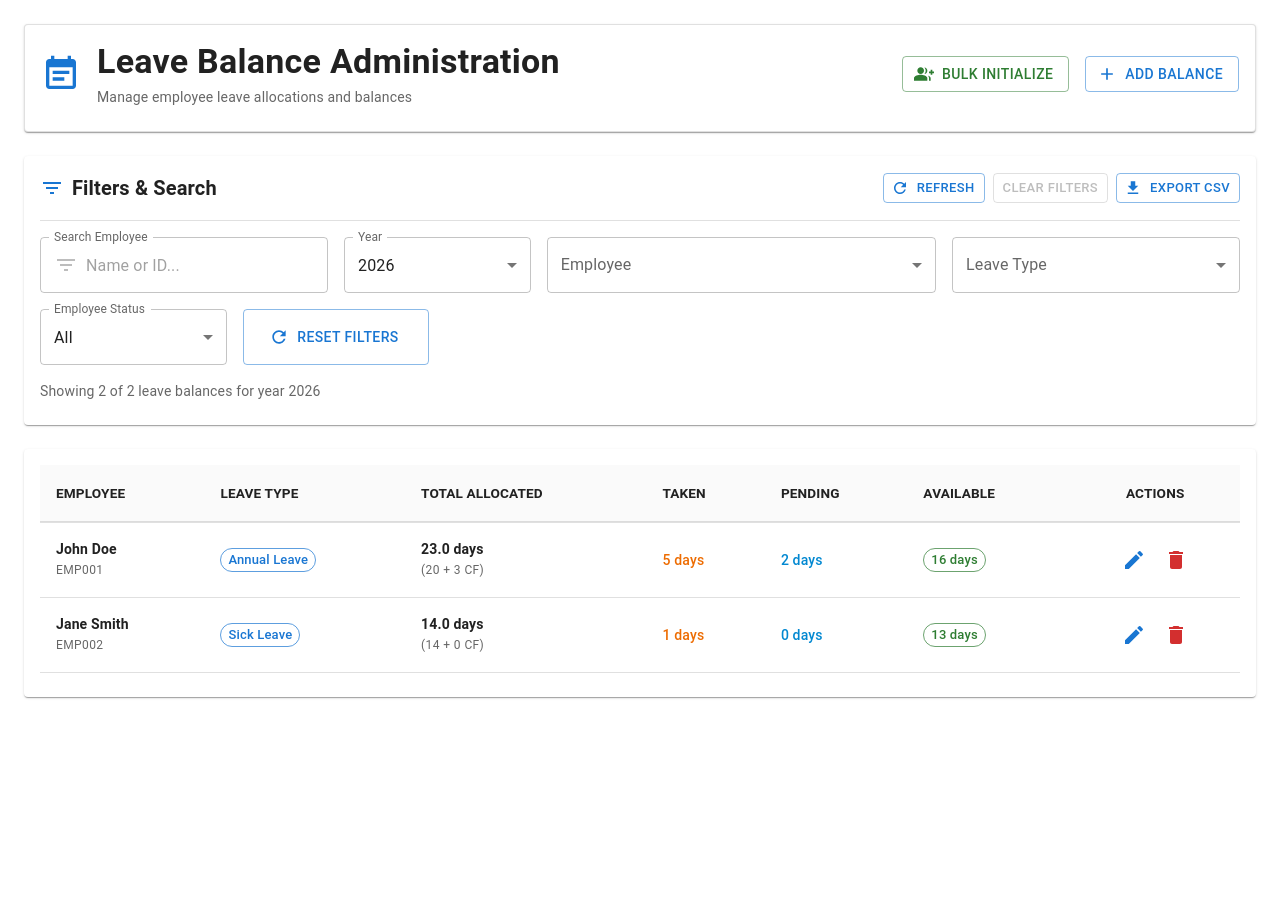
Test: LeaveBalanceModern › Create Balance Dialog › shows success message after creation
The width and height of the screenshot is (1280, 900).
Check: the text "John Doe" is shown, box [56,539,117,559]
Click the button "Add Balance": (1162, 74) [1085,56,1239,92]
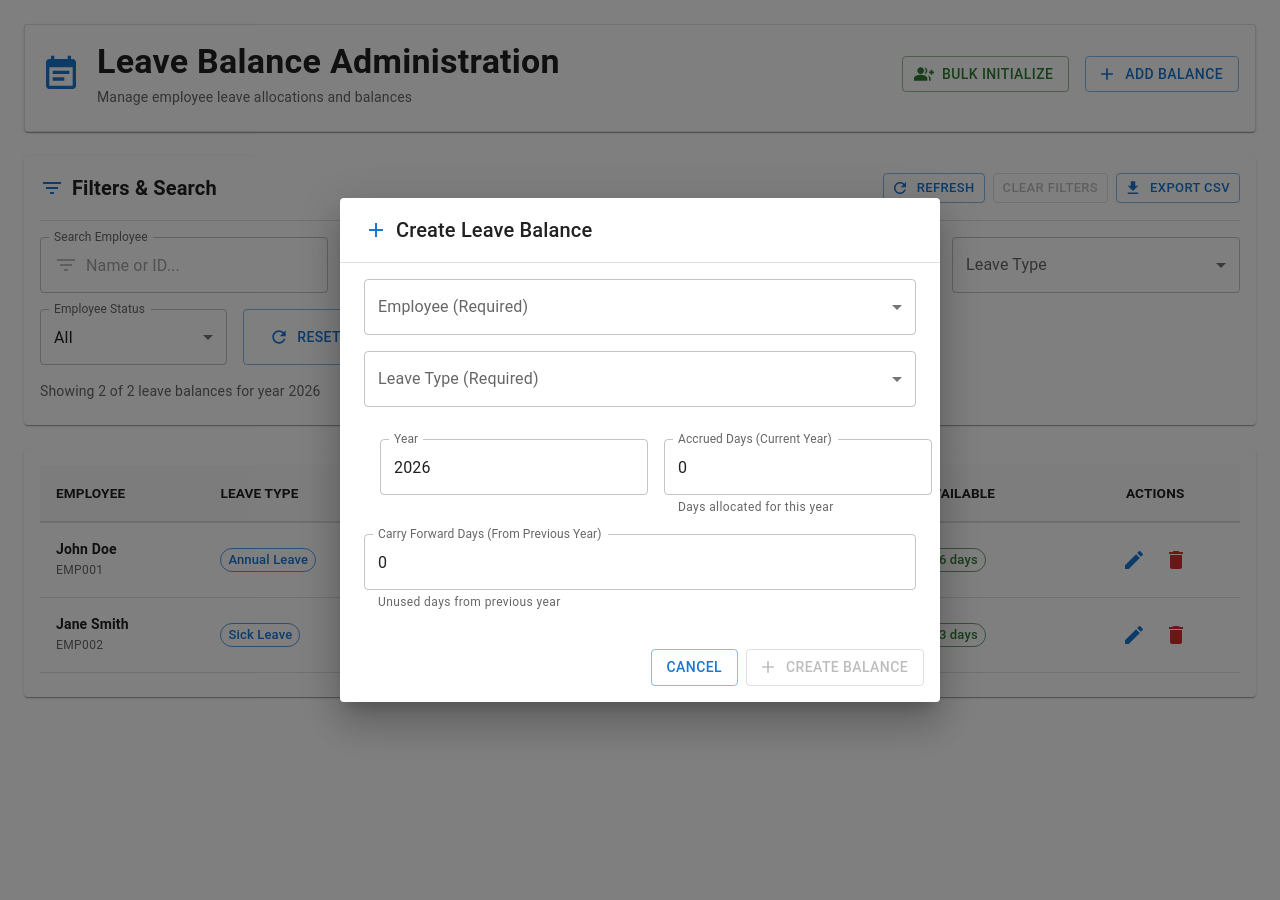
Check: the text "Create Leave Balance" is shown, box [364,218,592,242]
# Select employee via MUI Select dropdown
Click the dropdown next to "Employee (Required)": (640, 307) [364,279,916,335]
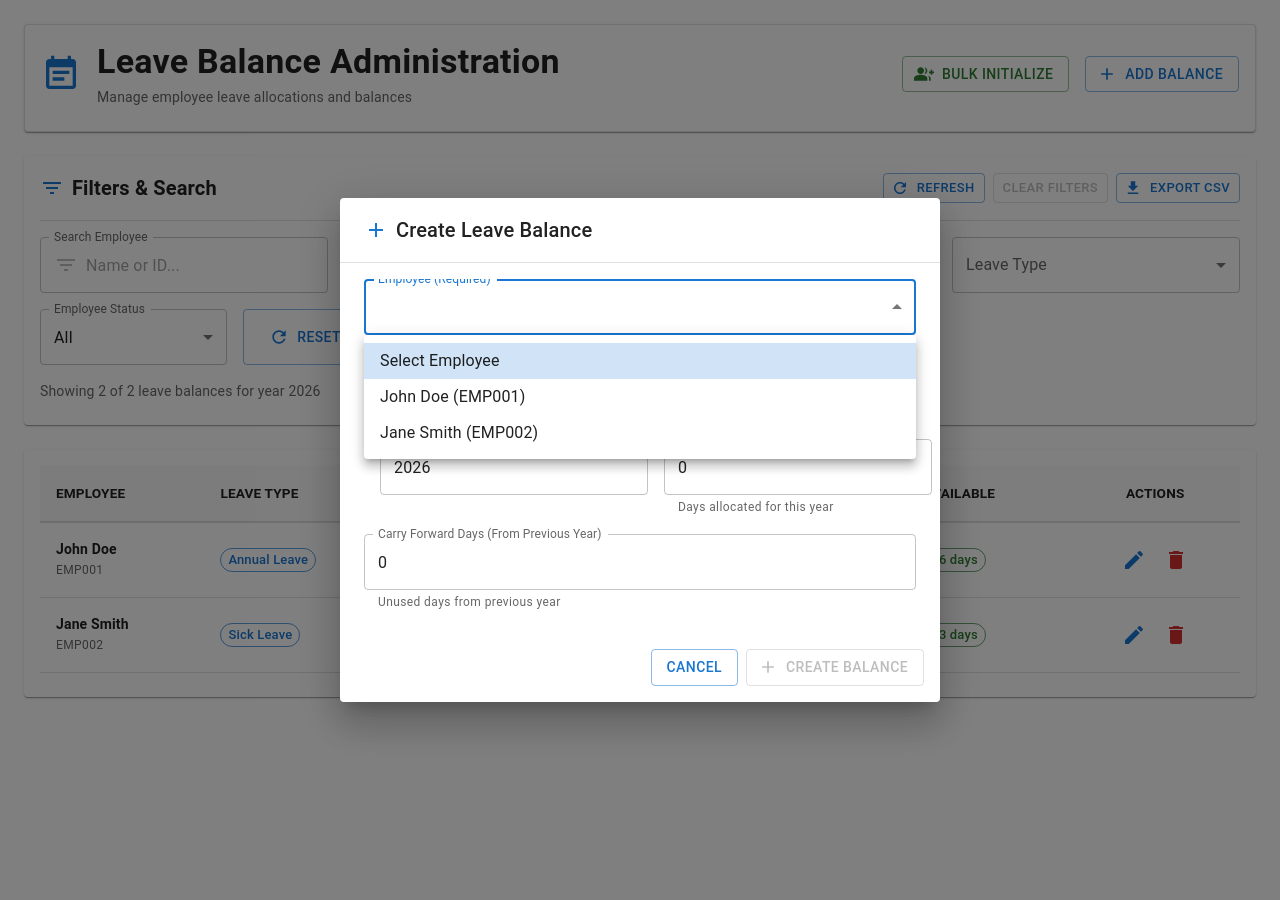
Click the option "John Doe (EMP001)": (453, 396) [380,387,525,406]
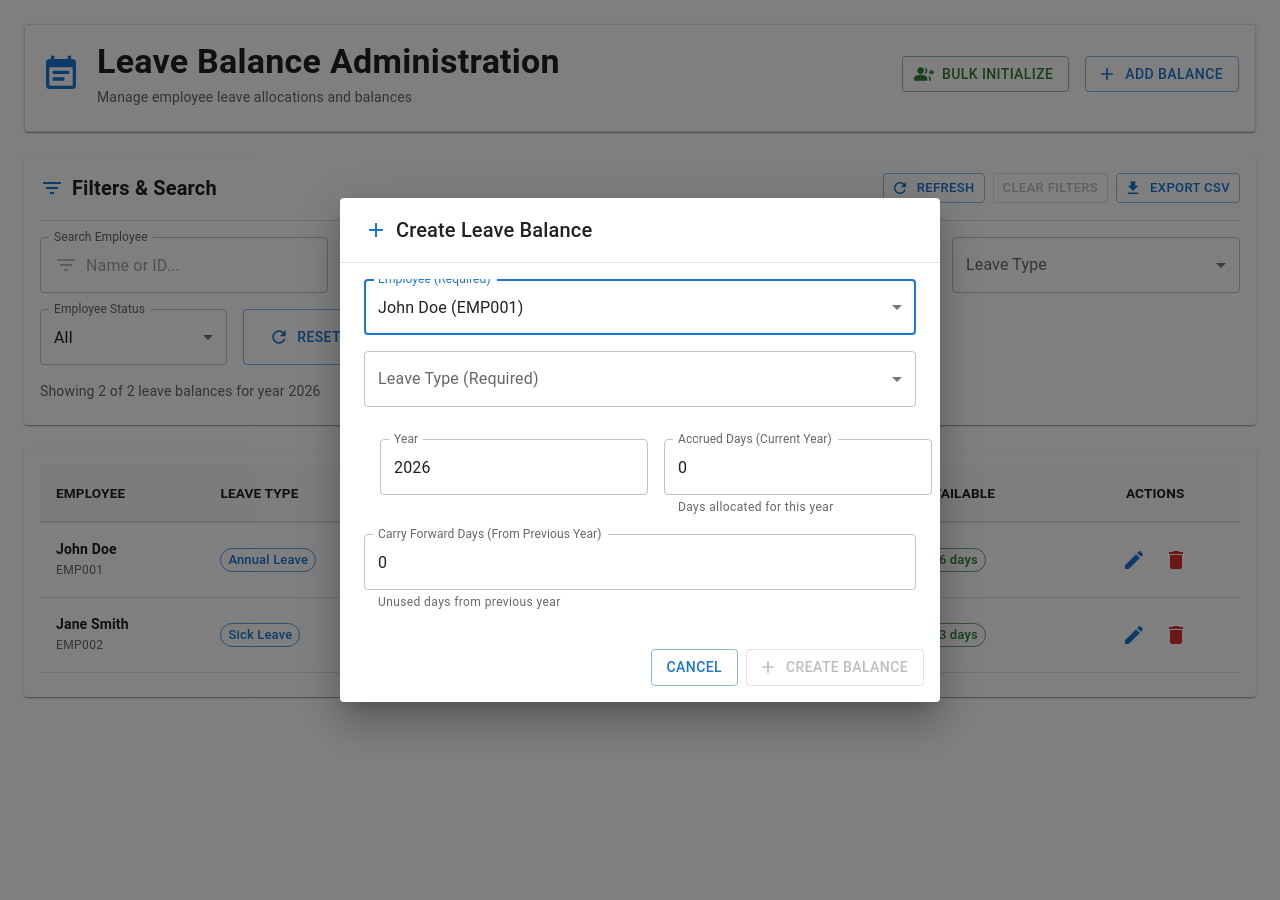
# Select leave type via MUI Select dropdown
Click the 2nd dropdown: (640, 379) [364,351,916,407]
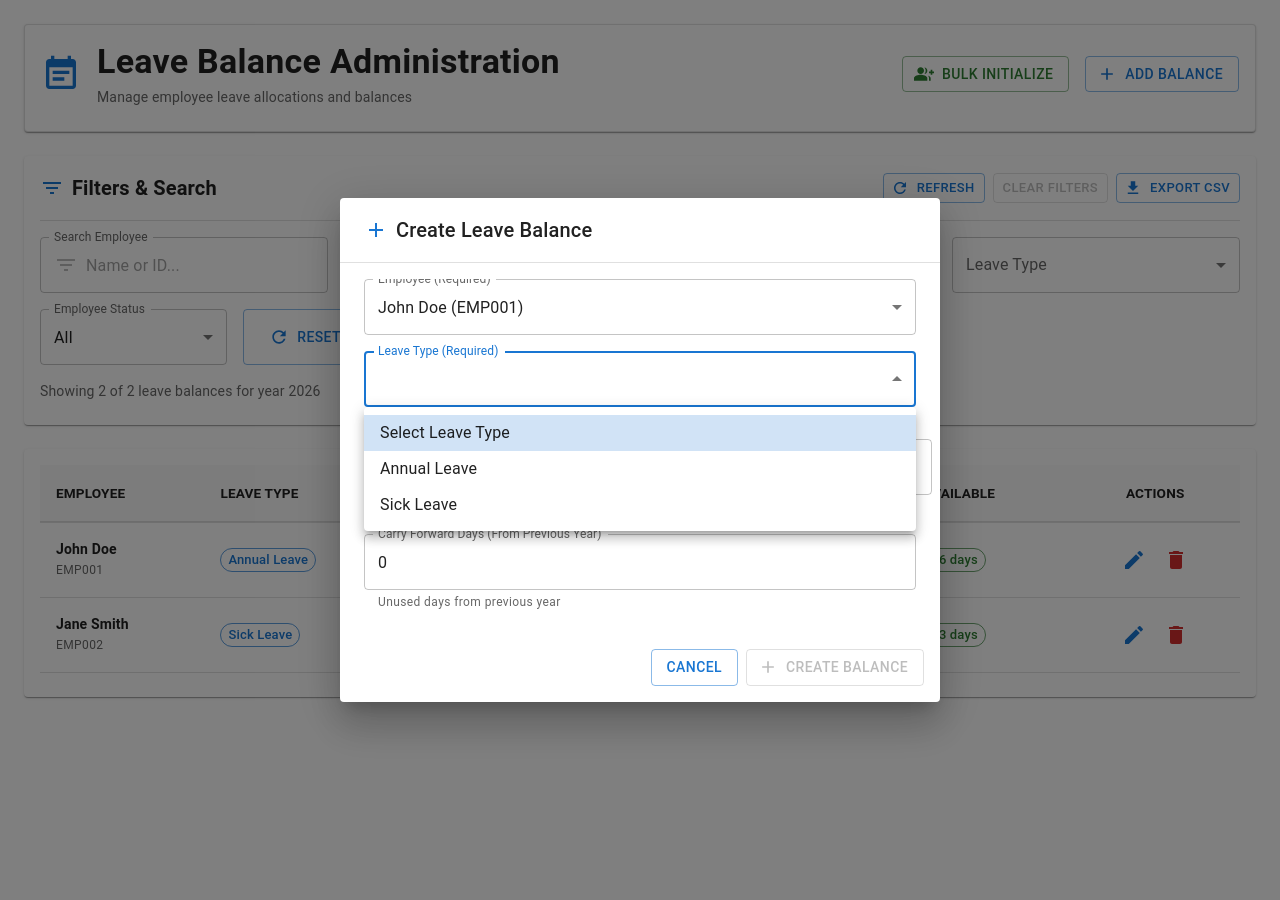
Click the option "Annual Leave": (429, 468) [380,459,477,478]
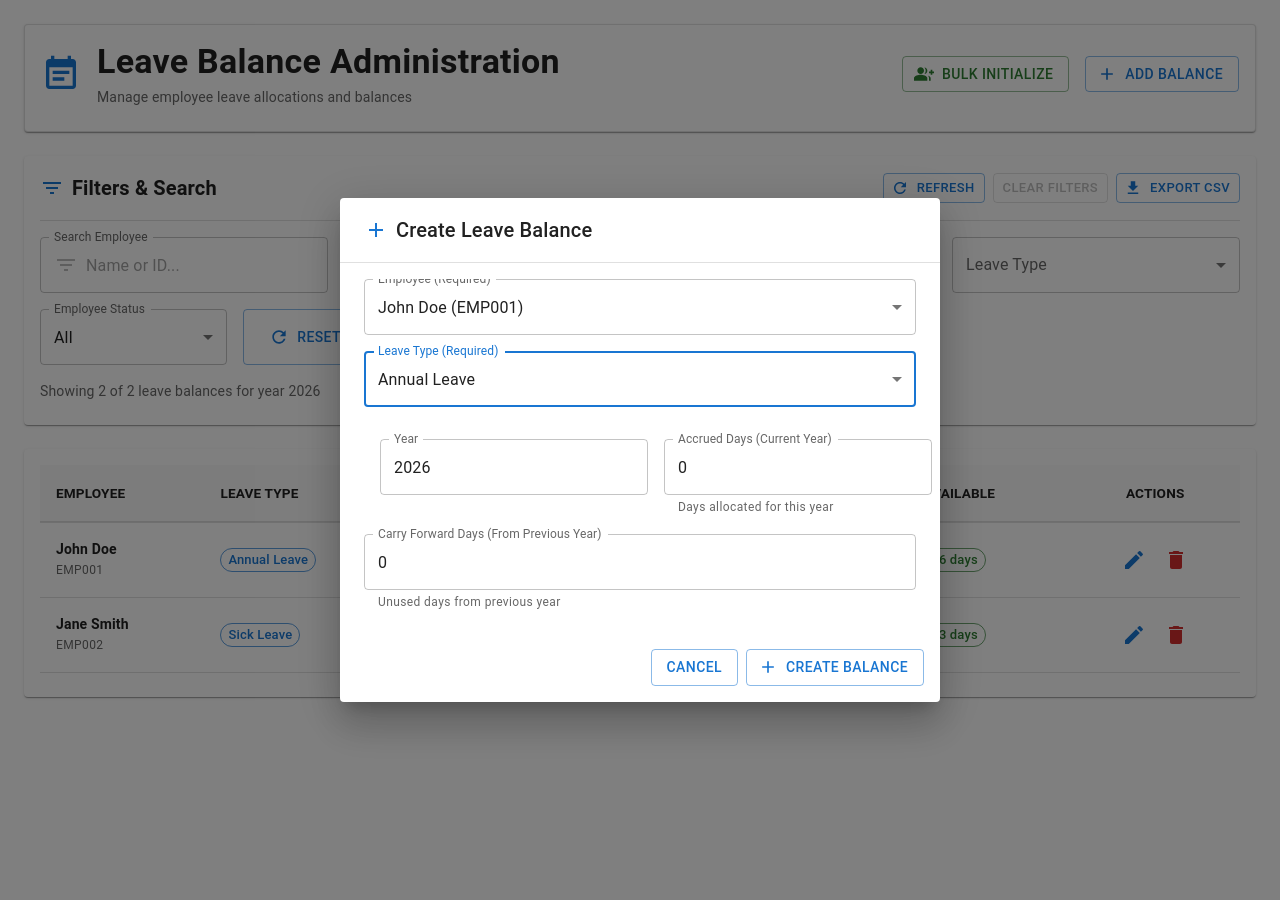
Click the button "Create Balance": (835, 667) [746,649,924,686]
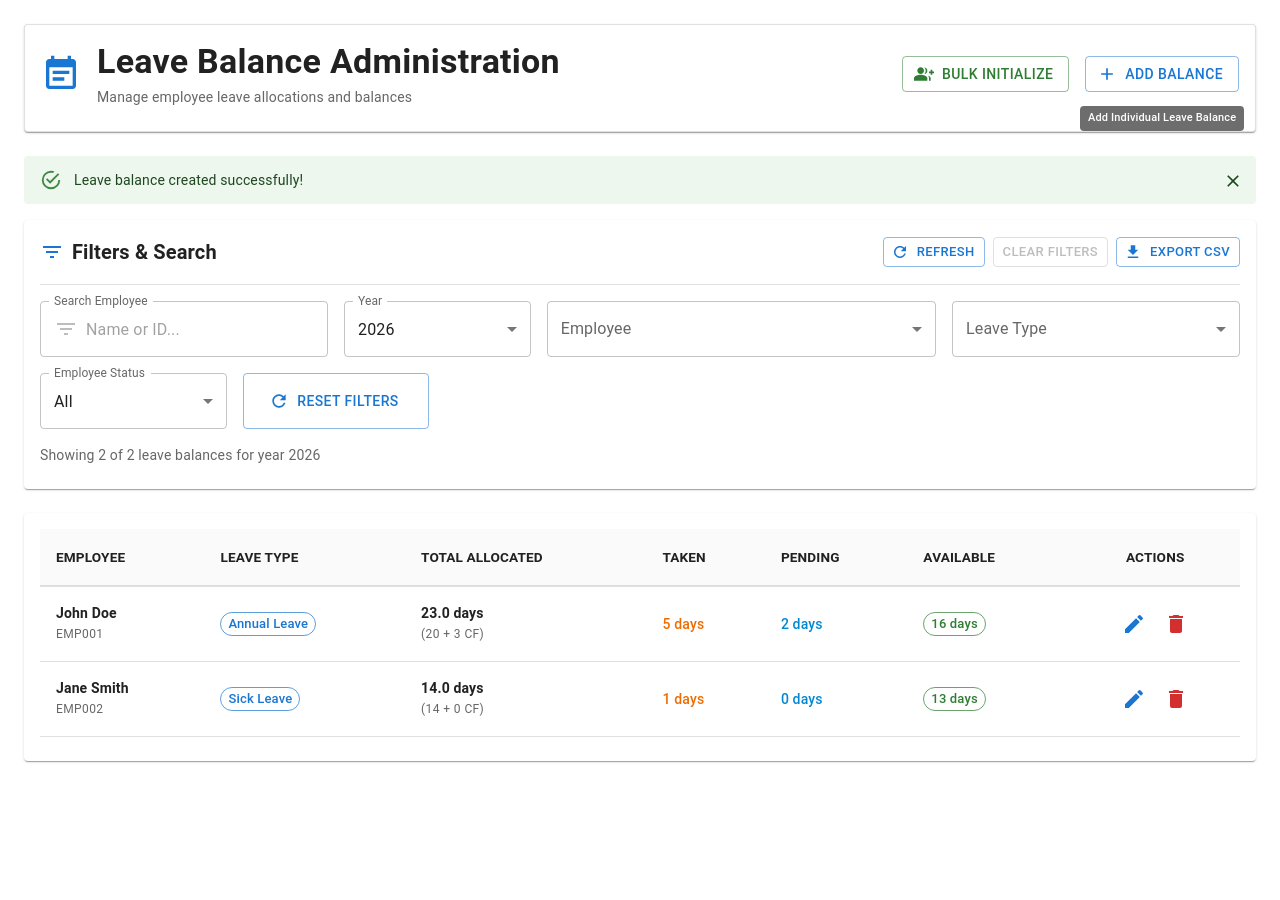
Check: the text "Leave balance created successfully!" is shown, box [74,172,303,188]
